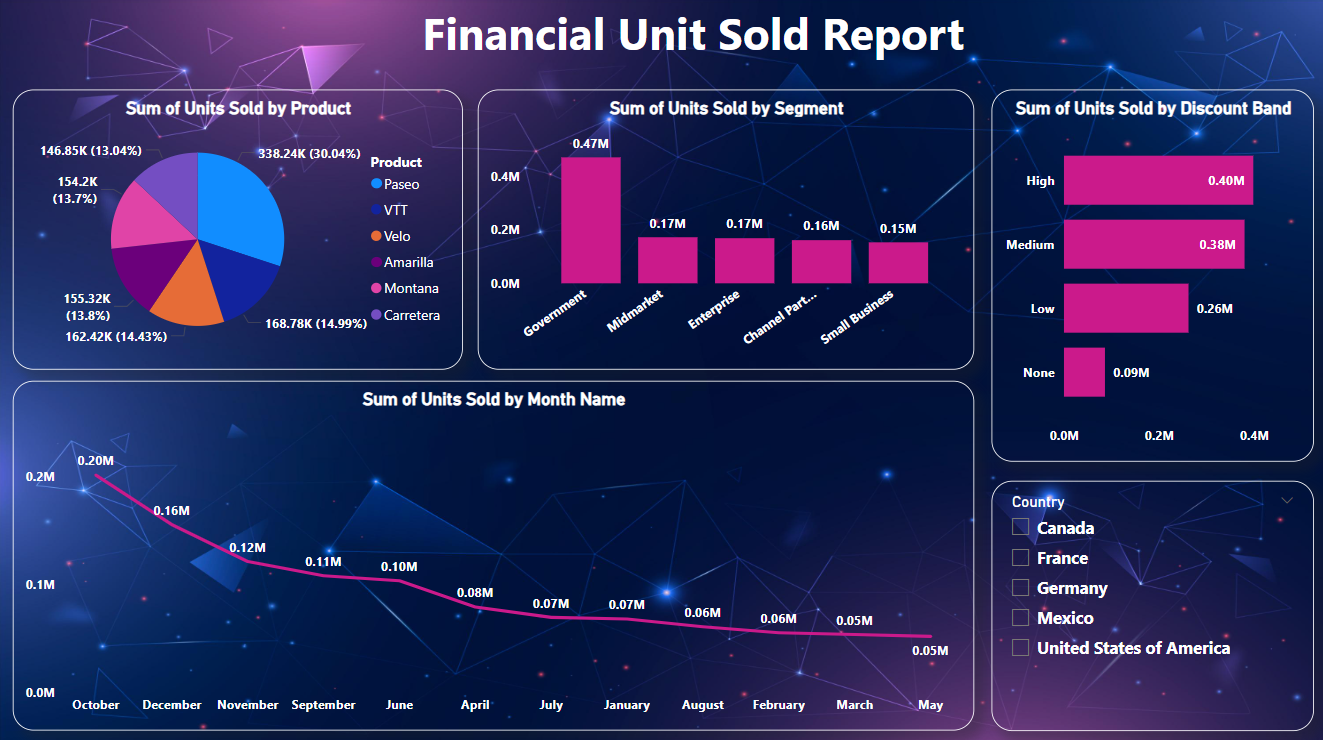

The page's visual inventory and layout, read from the dashboard file:
{"tool":"powerbi","page":{"name":"unit sold report","canvas":[1280,720],"ordinal":3},"visuals":[{"type":"textbox","box":[140.6,0,1057.8,132.1],"z":0},{"type":"pieChart","fields":{"Category":["financials.Product"],"Y":["Sum(financials.Units Sold)"]},"box":[0,89.3,440.2,281.3],"z":1000},{"type":"columnChart","fields":{"Category":["financials.Segment"],"Y":["Sum(financials.Units Sold)"]},"box":[440.2,89.3,481.8,281.3],"z":2000},{"type":"clusteredBarChart","fields":{"Category":["financials.Discount Band"],"Y":["Sum(financials.Units Sold)"]},"box":[922,89.3,358.3,281.3],"z":3000},{"type":"lineChart","fields":{"Category":["financials.Month Name"],"Y":["Sum(financials.Units Sold)"]},"box":[0,370.5,946.5,349.7],"z":4000},{"type":"slicer","fields":{"Values":["financials.Country"]},"box":[946.5,370.5,333.8,240.9],"z":5000}]}

Visuals, with their boxes in screenshot pixels (x1, y1, x2, y2), scaled from the page's 1280x720 canvas onto the 1323x740 screenshot:
textbox: bbox(145, 0, 1239, 136)
pieChart - financials.Product x Sum(financials.Units Sold): bbox(0, 92, 455, 381)
columnChart - financials.Segment x Sum(financials.Units Sold): bbox(455, 92, 953, 381)
clusteredBarChart - financials.Discount Band x Sum(financials.Units Sold): bbox(953, 92, 1322, 381)
lineChart - financials.Month Name x Sum(financials.Units Sold): bbox(0, 381, 978, 739)
slicer - financials.Country: bbox(978, 381, 1322, 628)
